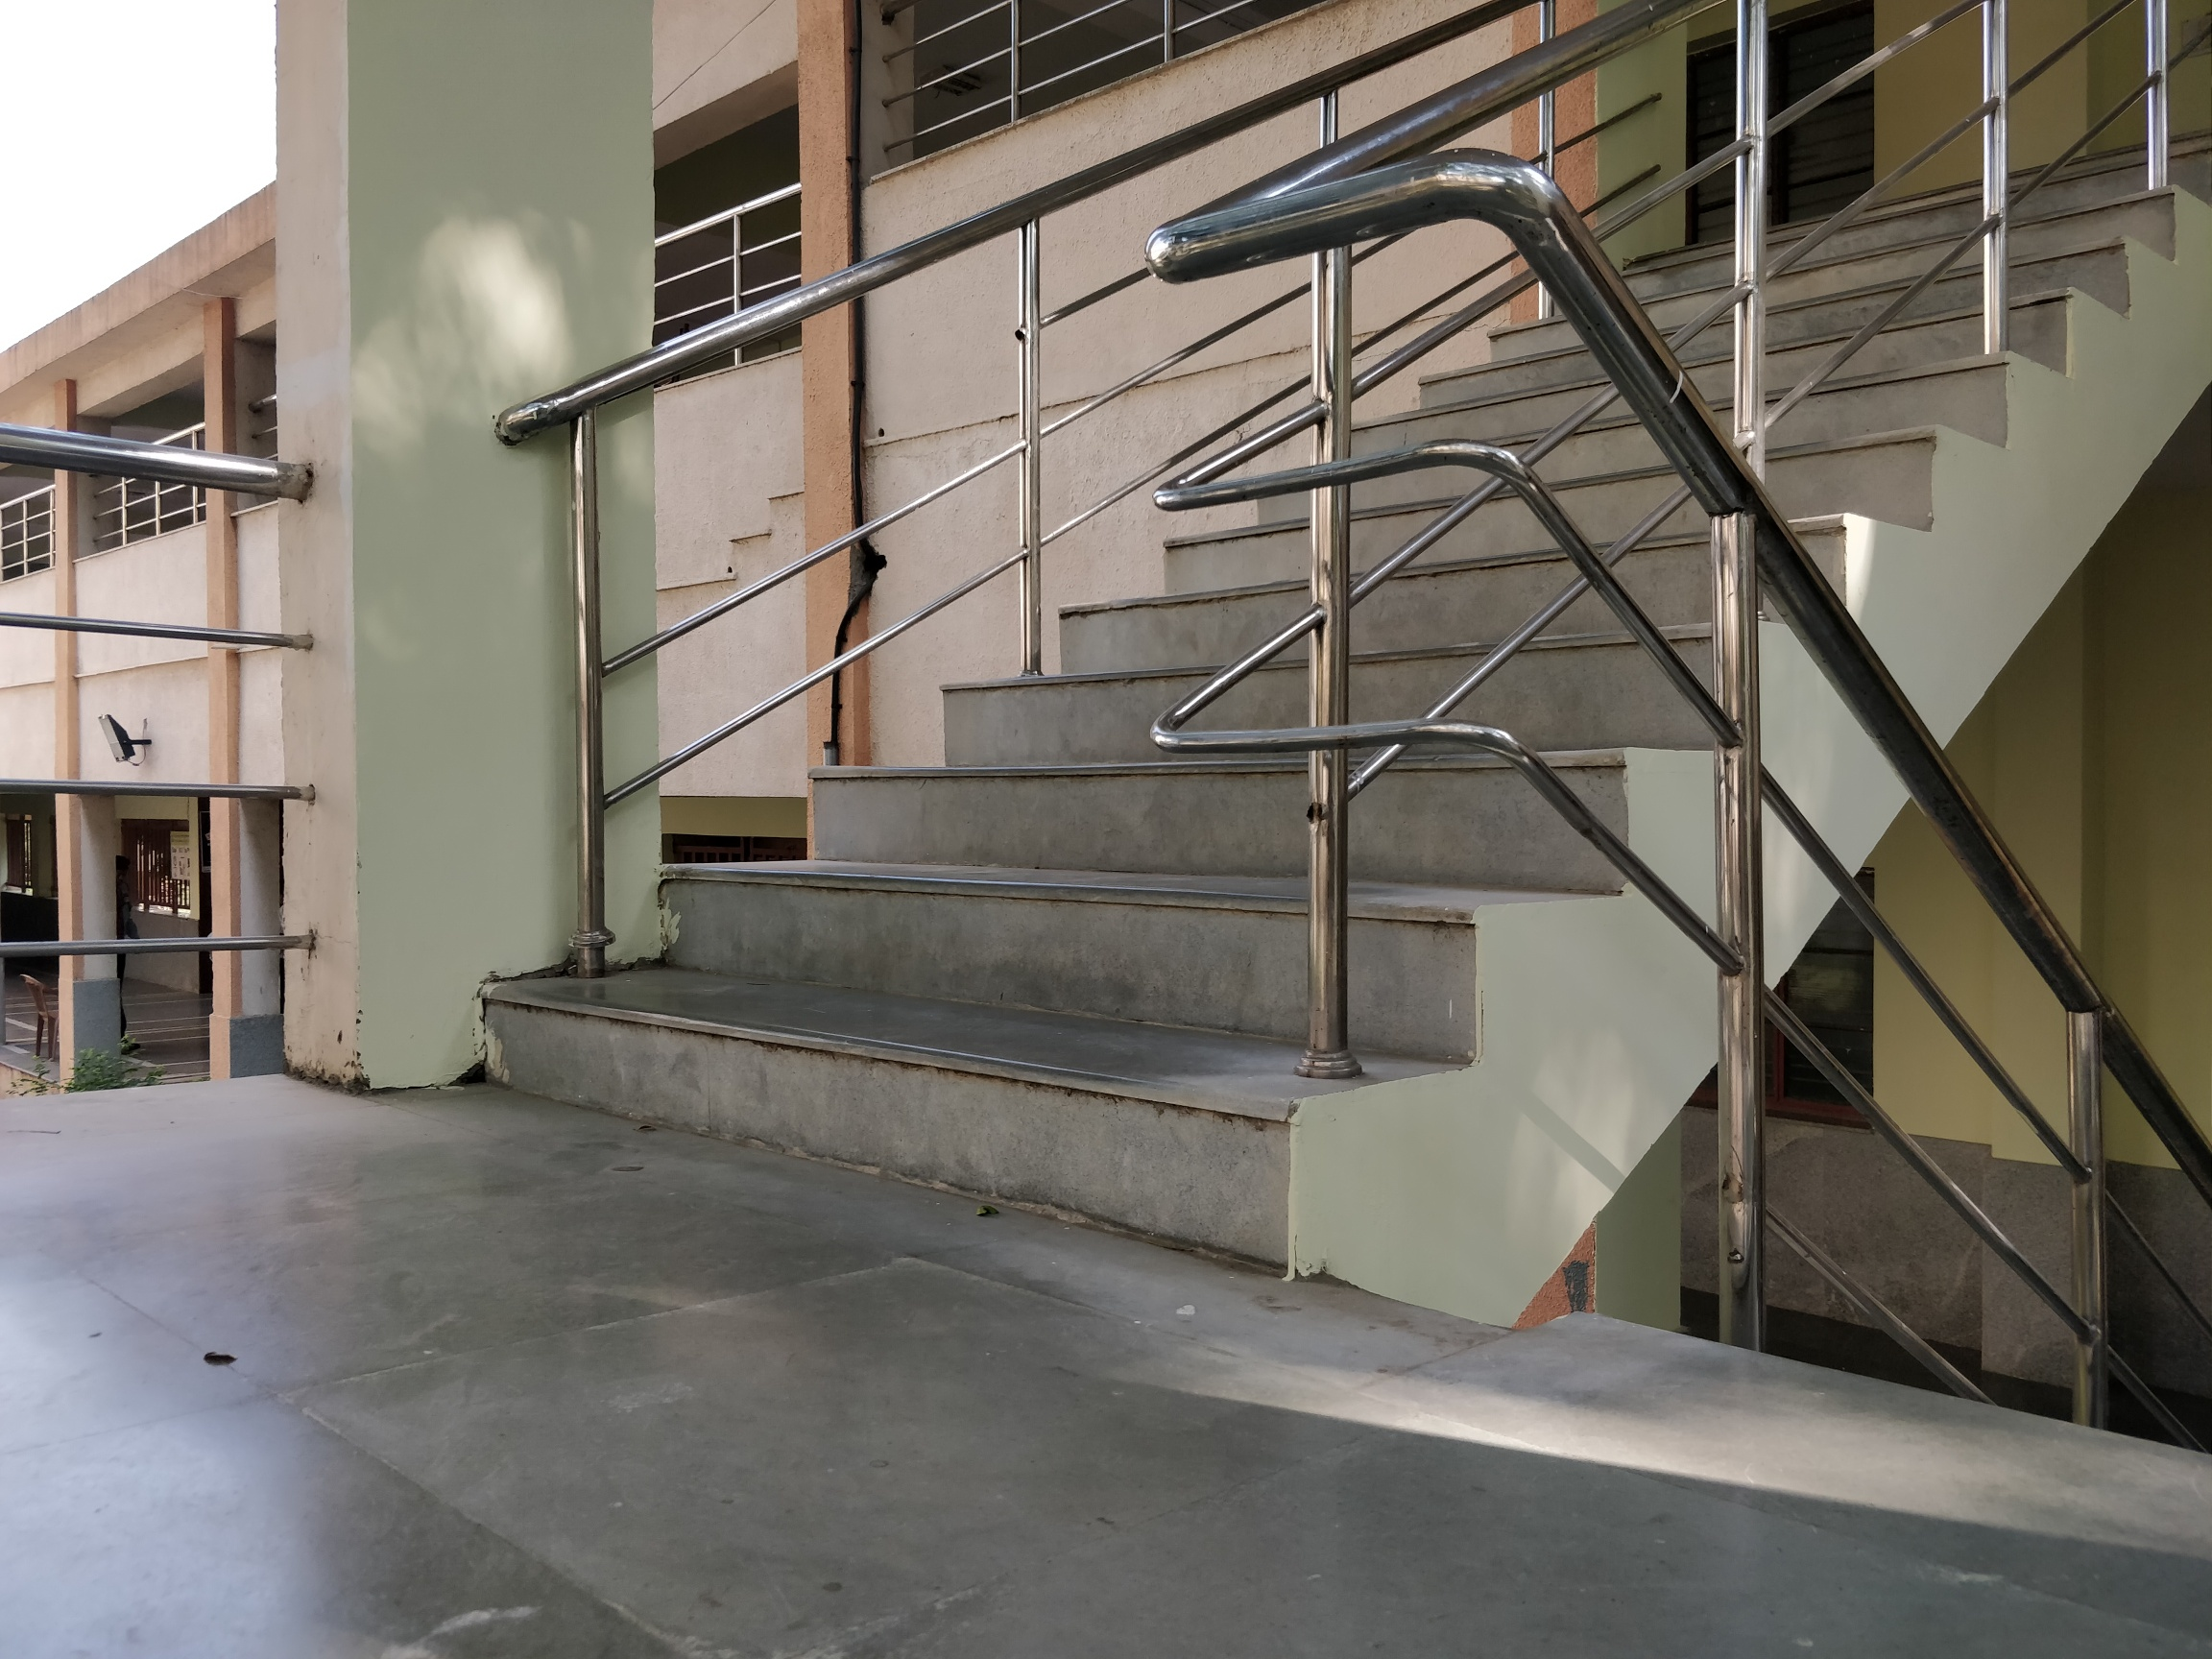stairs_up: (430, 211, 1970, 1265)
